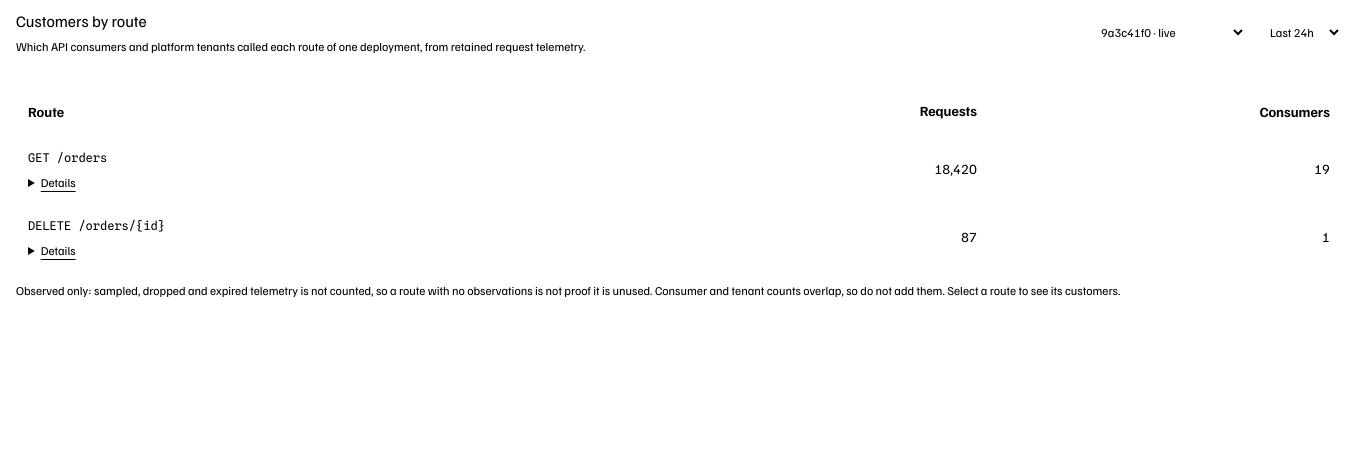
shows a route’s customers, and how many requests the list leaves out
Click the text "/orders".
click(39, 158)  # box [28,150,107,165]
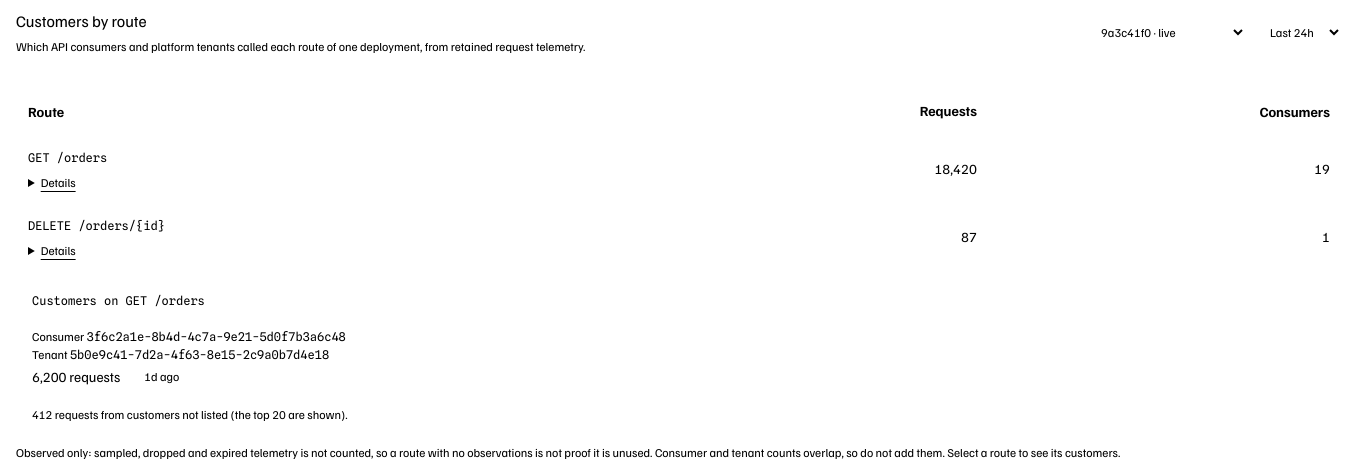
Expected: the text "3f6c2a1e-8b4d-4c7a-9e21-5d0f7b3a6c48" is shown, [87,329,346,344]
Expected: the text "6,200" is shown, [32,368,66,385]
Expected: the text "412 requests from customers not listed" is shown, [32,407,348,422]
